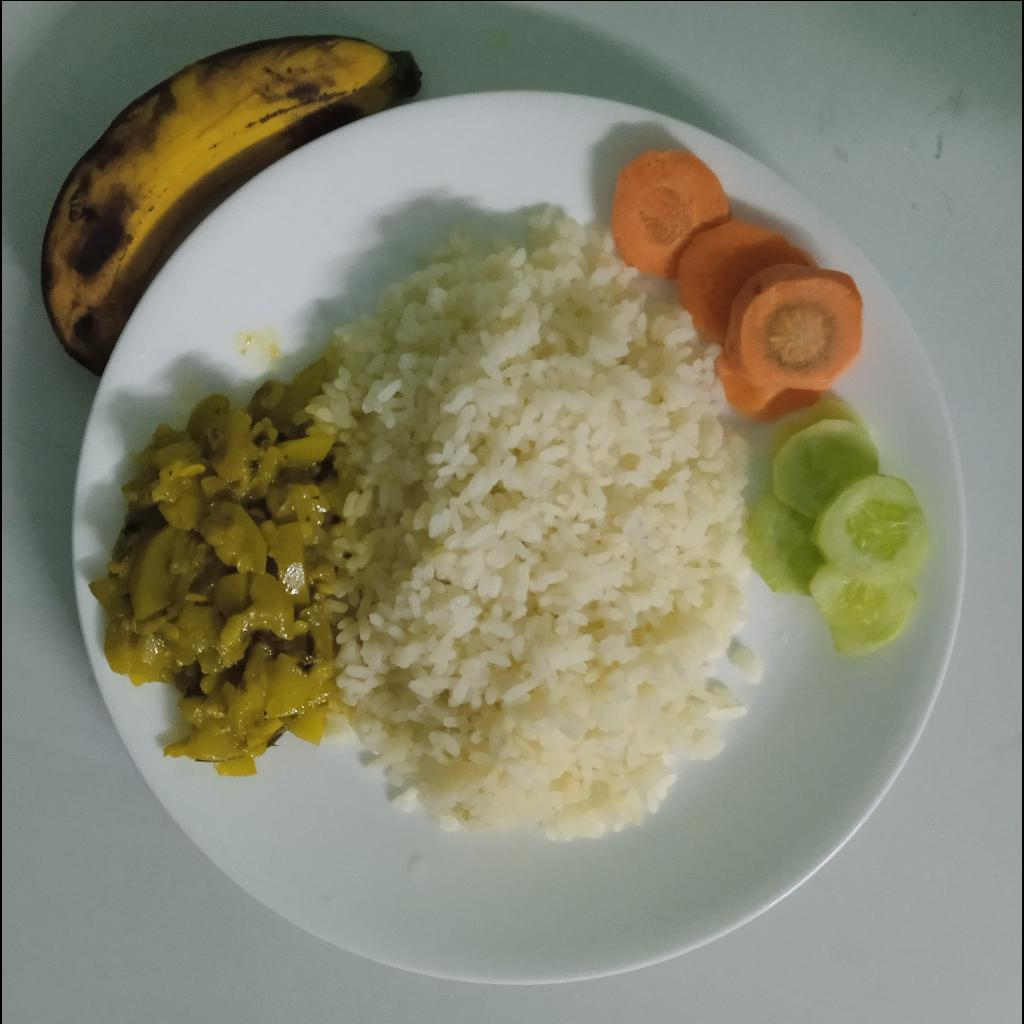banana: (41, 33, 424, 378)
carrot: (611, 147, 864, 424)
cucumber: (754, 397, 932, 654)
dundol: (87, 357, 344, 773)
rice: (312, 211, 764, 845)
